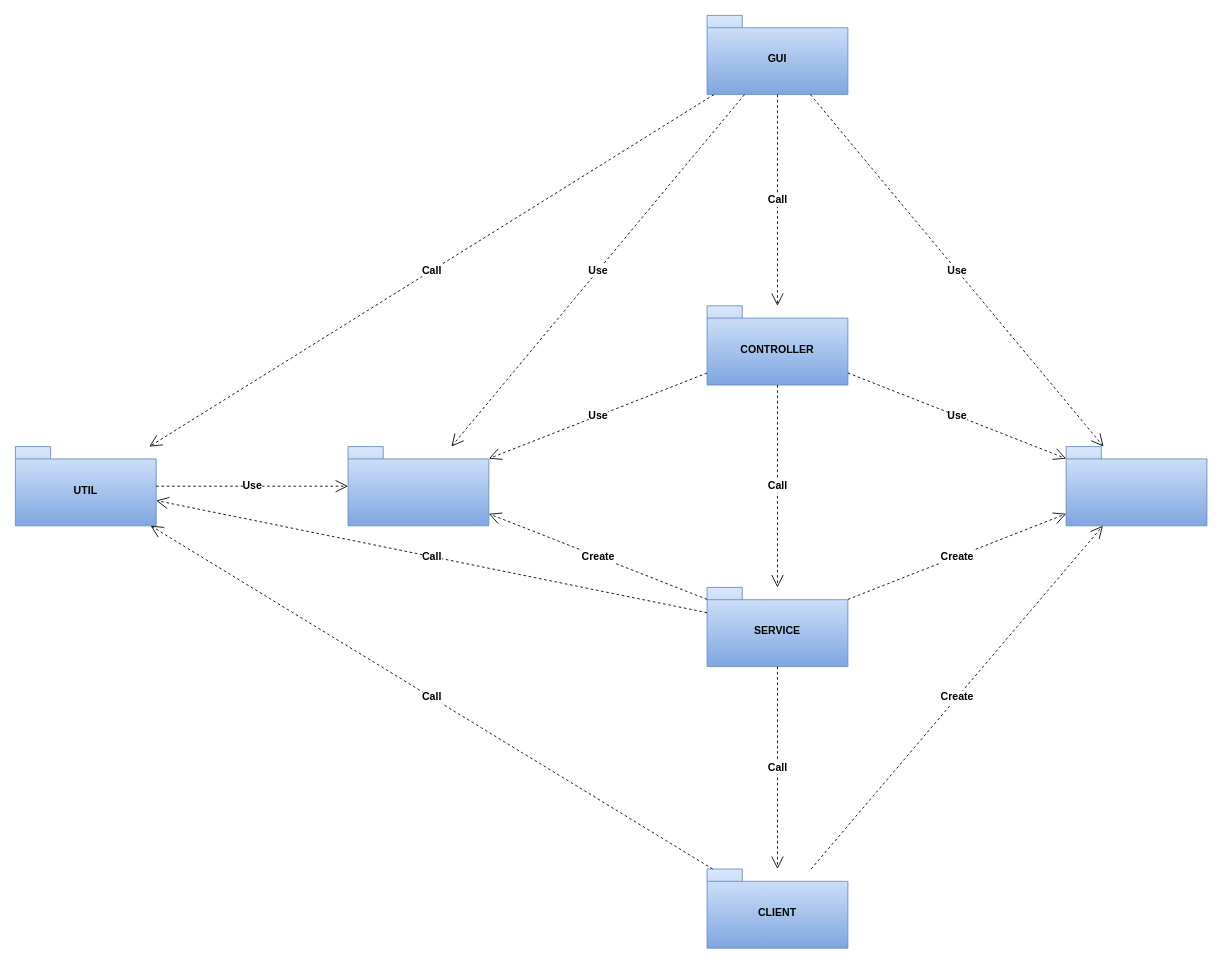
The diagram is 1222 pixels wide and 964 high, and some of its shapes have lost their labels. Here are the shapes that lost their labels. From the top down, the centre of each, then its label:
the point at 418,486: DTO
the point at 1136,486: EXCEPTION
